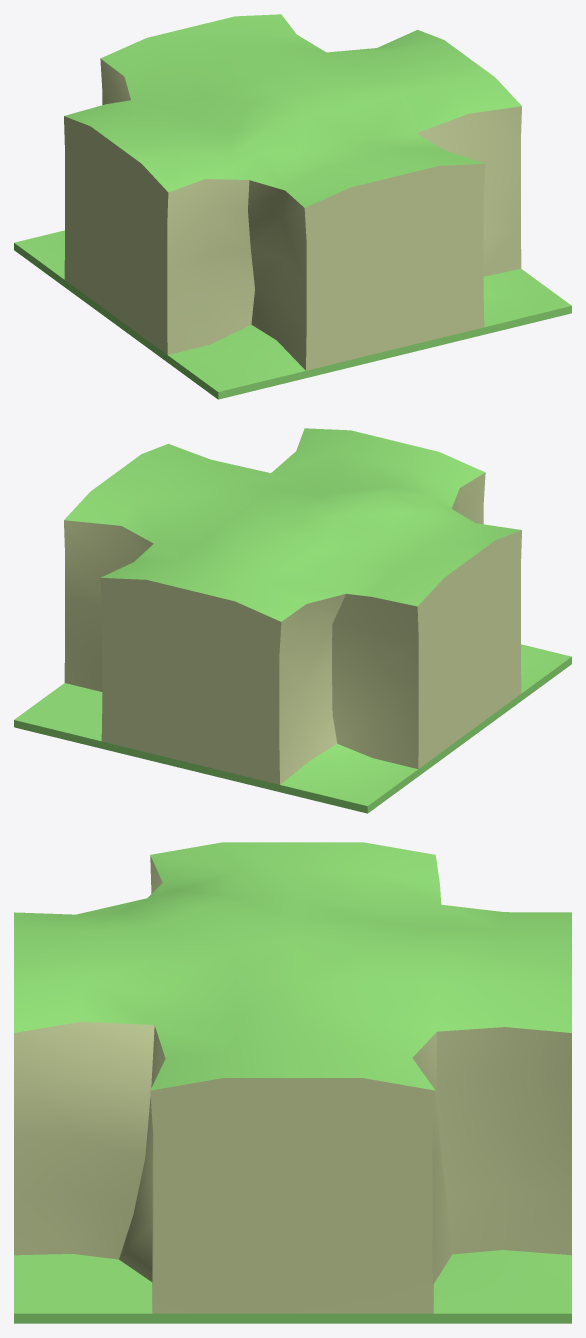
The model's file is wall_slim_join4_1.glb.
3 views of the same model, one above another, from view 1: azimuth 30°, elevation 25°; view 2: azimuth 150°, elevation 25°; view 3: azimuth 270°, elevation 25° (orthographic). The views are drawn at different scales.
Visible parts, largest first — view 1: wall_slim_join4_1; view 2: wall_slim_join4_1; view 3: wall_slim_join4_1.
Boxes of the visible parts, bbox=[...] form: wall_slim_join4_1: bbox=[14, 14, 571, 399]; wall_slim_join4_1: bbox=[14, 428, 571, 813]; wall_slim_join4_1: bbox=[14, 842, 571, 1323].
Size of the model in its own units: 2 by 1.04 by 2.
